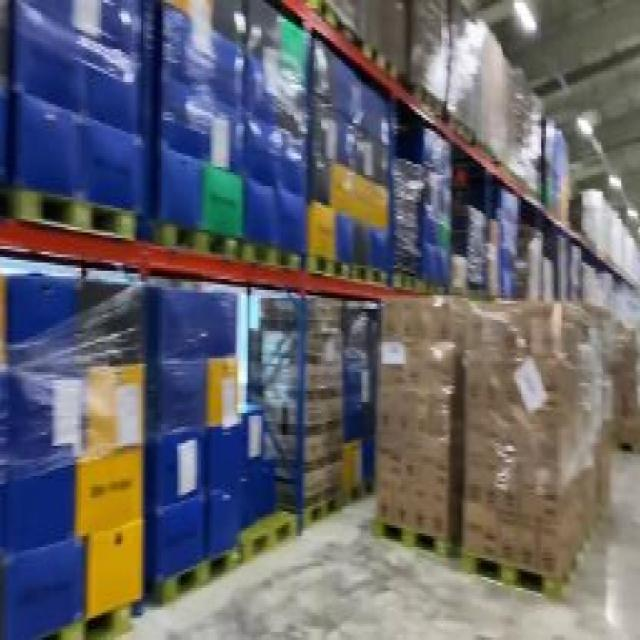box: (372, 287, 614, 591), (2, 271, 148, 621), (149, 3, 309, 271), (9, 2, 146, 262), (151, 282, 243, 580), (451, 19, 572, 211), (255, 287, 352, 517), (310, 41, 396, 290), (392, 123, 451, 290), (491, 189, 558, 306), (577, 183, 638, 279)
